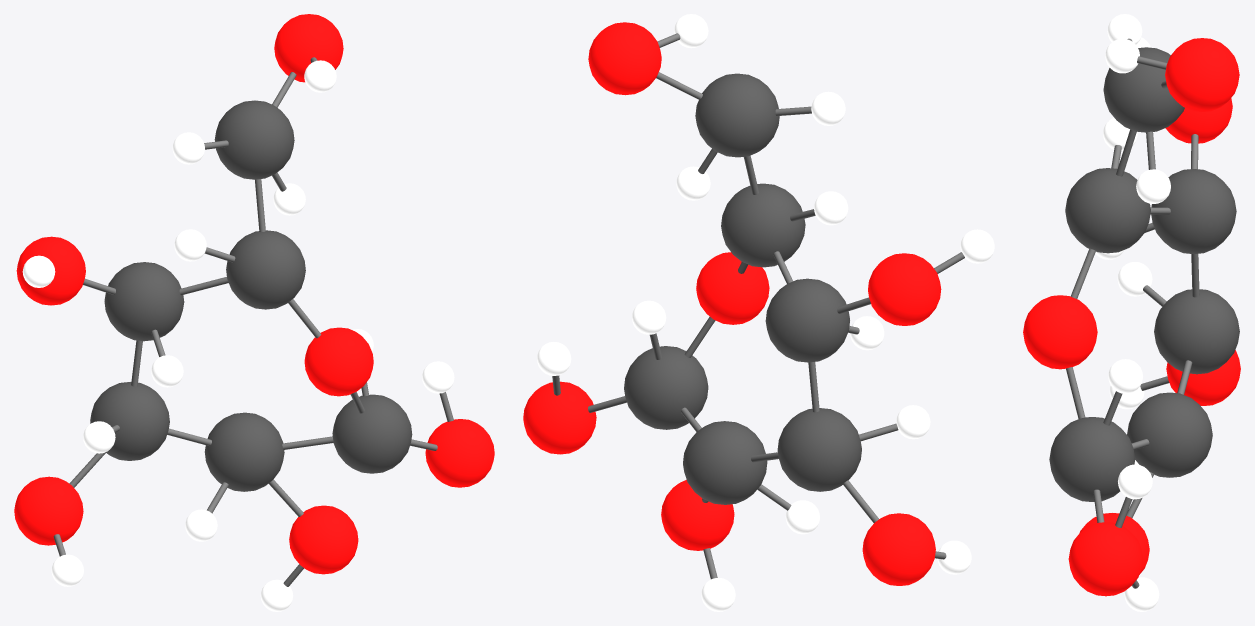
File: glucose.glb
3 renders of one model, left to right at view 1: azimuth 30°, elevation 25°; view 2: azimuth 150°, elevation 25°; view 3: azimuth 270°, elevation 25°, orthographic. The views are drawn at different scales.
Visible parts, largest first — view 1: Atom_C2_C, Atom_C5_C, Atom_C1_C, Atom_C6_C, Atom_C3_C, Atom_C4_C, Atom_O5_O, Atom_O2_O, Atom_O4_O, Atom_O6_O, Atom_O1_O, Atom_O3_O (+11 smaller); view 2: Atom_C4_C, Atom_C1_C, Atom_C3_C, Atom_C5_C, Atom_C6_C, Atom_C2_C, Atom_O1_O, Atom_O4_O, Atom_O3_O, Atom_O6_O, Atom_O2_O, Atom_O5_O (+12 smaller); view 3: Atom_C4_C, Atom_C5_C, Atom_C2_C, Atom_C6_C, Atom_C3_C, Atom_O1_O, Atom_O2_O, Atom_O6_O, Atom_C1_C, Atom_O4_O, Atom_O3_O, Atom_H11_H (+13 smaller).
Boxes of the visible parts, bbox=[...] form: Atom_C2_C: bbox=[226, 230, 305, 309]; Atom_C5_C: bbox=[204, 412, 284, 491]; Atom_C1_C: bbox=[214, 100, 294, 179]; Atom_C6_C: bbox=[332, 394, 412, 473]; Atom_C3_C: bbox=[104, 262, 184, 341]; Atom_C4_C: bbox=[90, 382, 169, 460]; Atom_O5_O: bbox=[289, 505, 358, 574]; Atom_O2_O: bbox=[304, 327, 373, 396]; Atom_O4_O: bbox=[14, 476, 83, 545]; Atom_O6_O: bbox=[425, 419, 494, 487]; Atom_O1_O: bbox=[274, 14, 343, 82]; Atom_O3_O: bbox=[16, 236, 85, 305]; Atom_C4_C: bbox=[777, 408, 861, 491]; Atom_C1_C: bbox=[695, 73, 779, 157]; Atom_C3_C: bbox=[765, 278, 849, 362]; Atom_C5_C: bbox=[683, 421, 767, 504]; Atom_C6_C: bbox=[624, 346, 708, 429]; Atom_C2_C: bbox=[721, 183, 805, 267]; Atom_O1_O: bbox=[588, 22, 661, 95]; Atom_O4_O: bbox=[862, 513, 935, 585]; Atom_O3_O: bbox=[868, 253, 941, 325]; Atom_O6_O: bbox=[523, 381, 596, 454]; Atom_O2_O: bbox=[696, 252, 769, 324]; Atom_O5_O: bbox=[661, 480, 734, 550]; Atom_C4_C: bbox=[1154, 289, 1239, 374]; Atom_C5_C: bbox=[1127, 392, 1212, 477]; Atom_C2_C: bbox=[1065, 168, 1150, 253]; Atom_C6_C: bbox=[1049, 417, 1135, 501]; Atom_C3_C: bbox=[1151, 169, 1236, 254]; Atom_O1_O: bbox=[1165, 38, 1239, 111]; Atom_O2_O: bbox=[1023, 295, 1097, 369]; Atom_O6_O: bbox=[1068, 522, 1143, 596]; Atom_C1_C: bbox=[1103, 47, 1184, 132]; Atom_O4_O: bbox=[1166, 350, 1240, 405]; Atom_O3_O: bbox=[1165, 98, 1232, 143]; Atom_H11_H: bbox=[1108, 359, 1142, 393].
Bounding box in the file's own units: 6.27 × 7.41 × 2.43.
